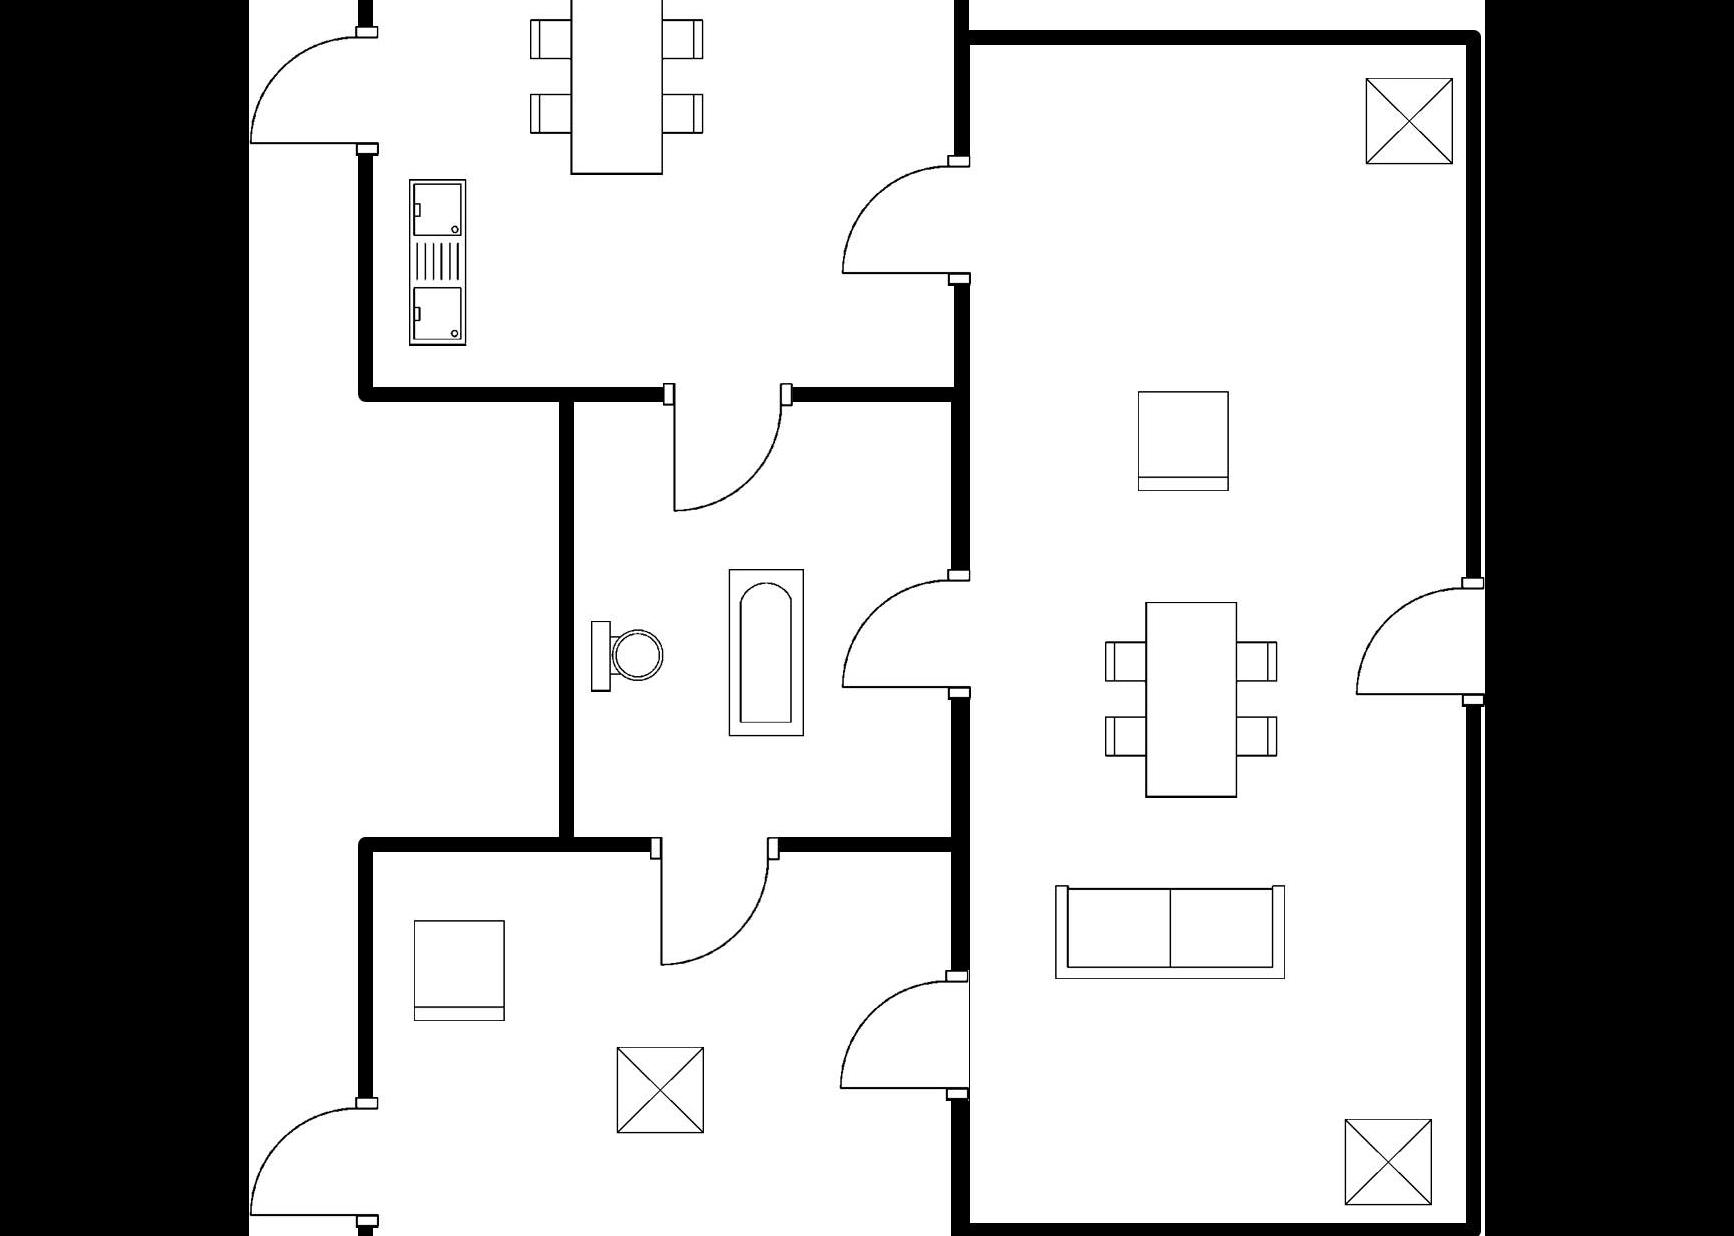sink: (400, 167, 476, 356)
